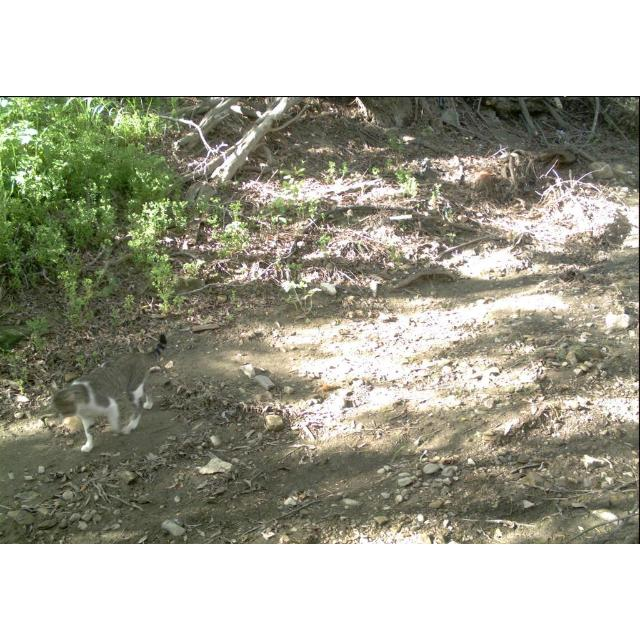animals: (45, 331, 168, 455)
